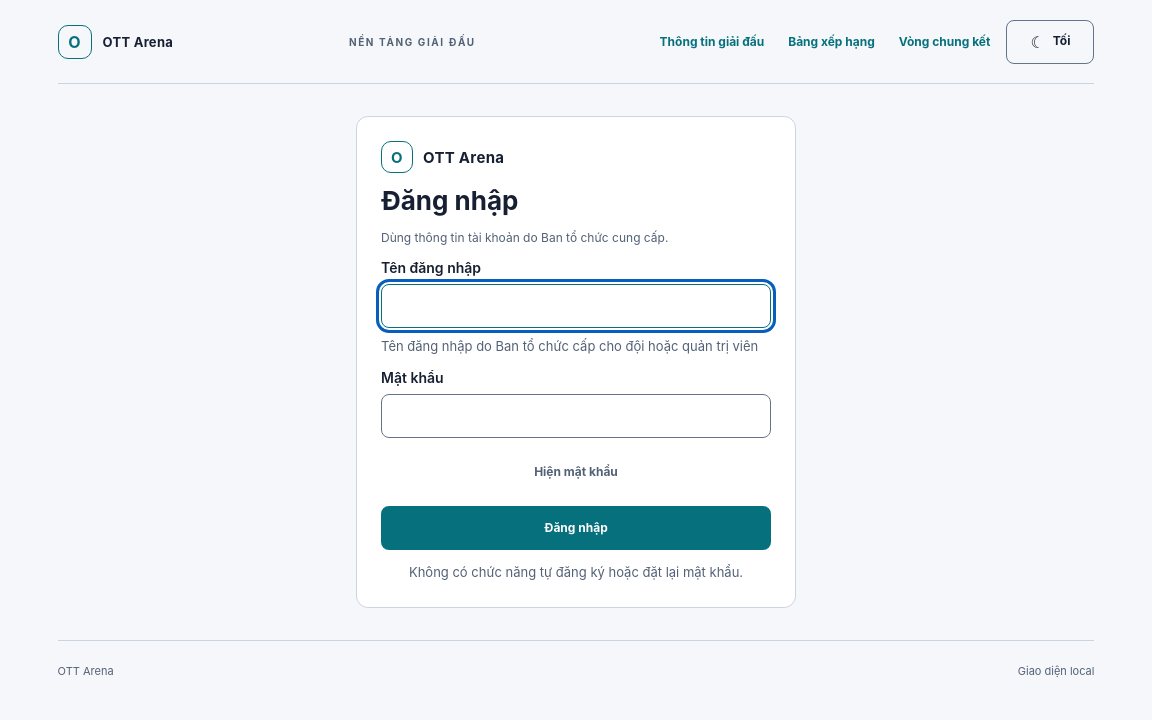
Test: login UI › shows the MFA step indicator, hints, maxLength and focus
Expected: the form "đăng nhập" is shown, x1=381 y1=259 x2=771 y2=550
Type "admin" into the field labelled "Tên đăng nhập" at (576, 306), box x1=381 y1=284 x2=771 y2=328
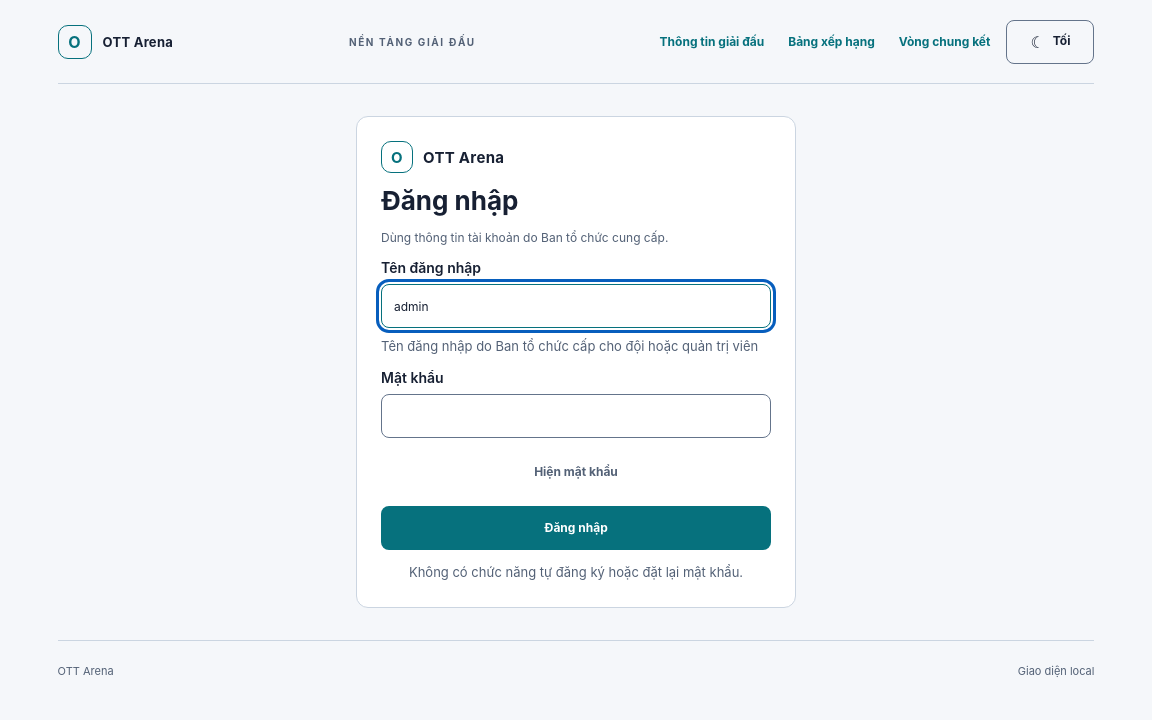
Type "secret-pass-123" into the password field labelled "Mật khẩu" at (576, 416), box x1=381 y1=394 x2=771 y2=438
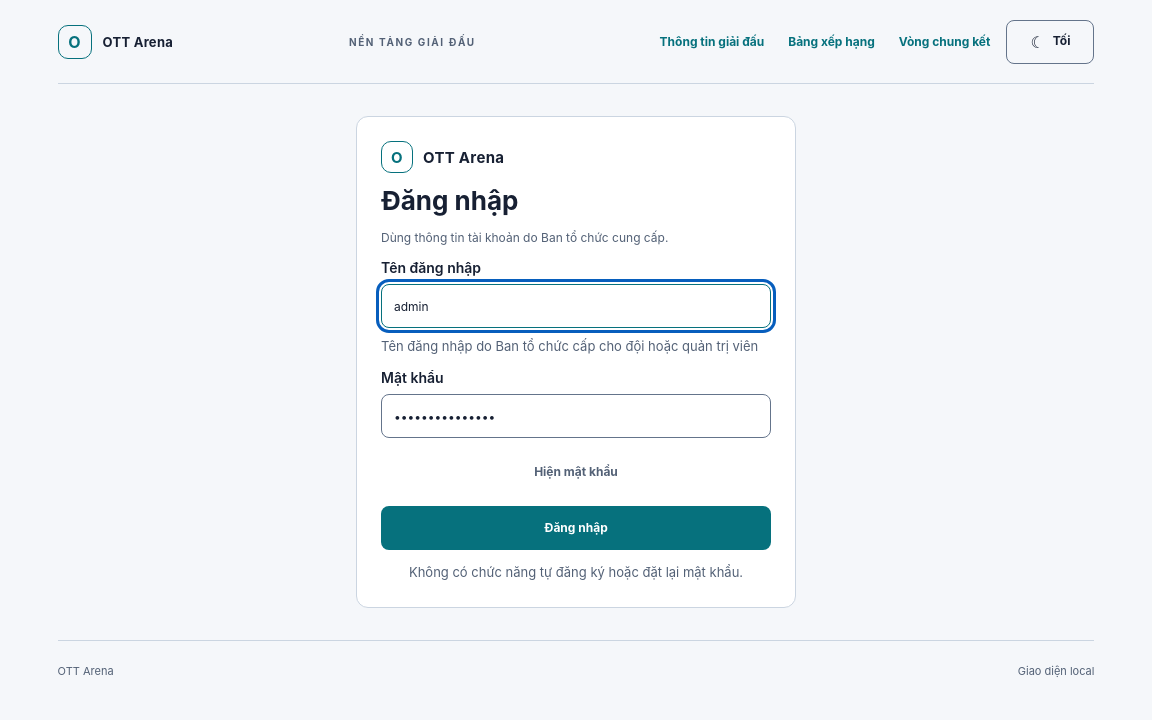
Click the button "Hiện mật khẩu" at (576, 472), box x1=381 y1=450 x2=771 y2=494
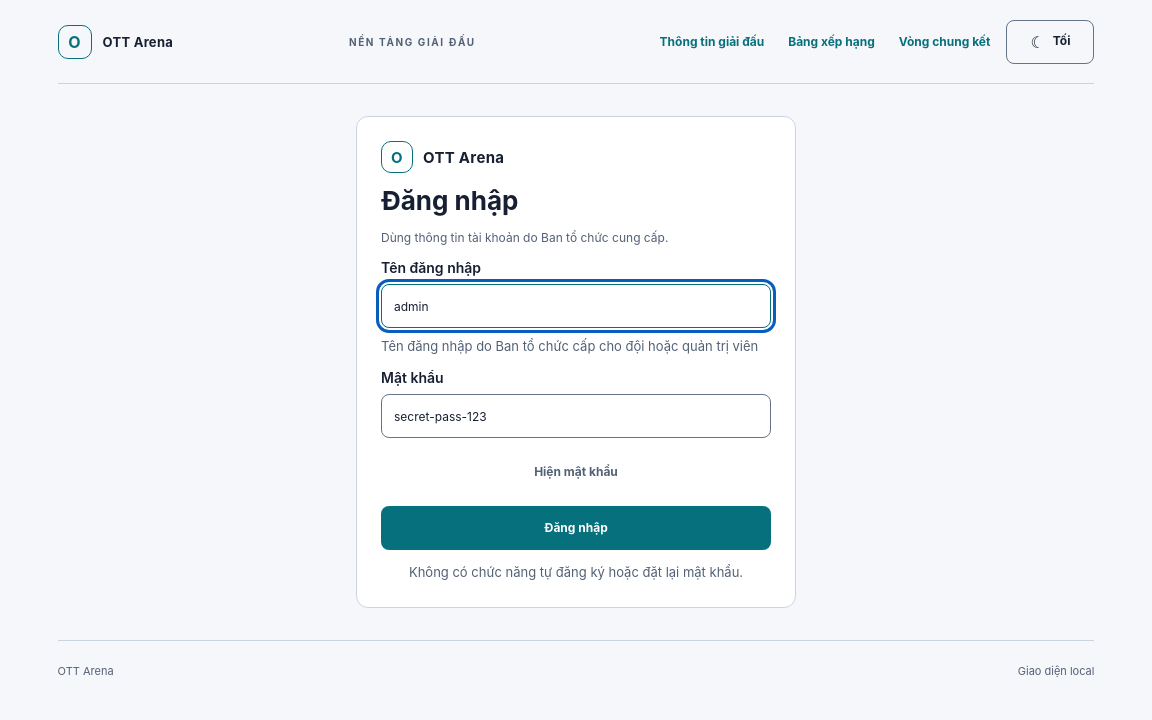
Submit the form "đăng nhập", box x1=381 y1=259 x2=771 y2=550
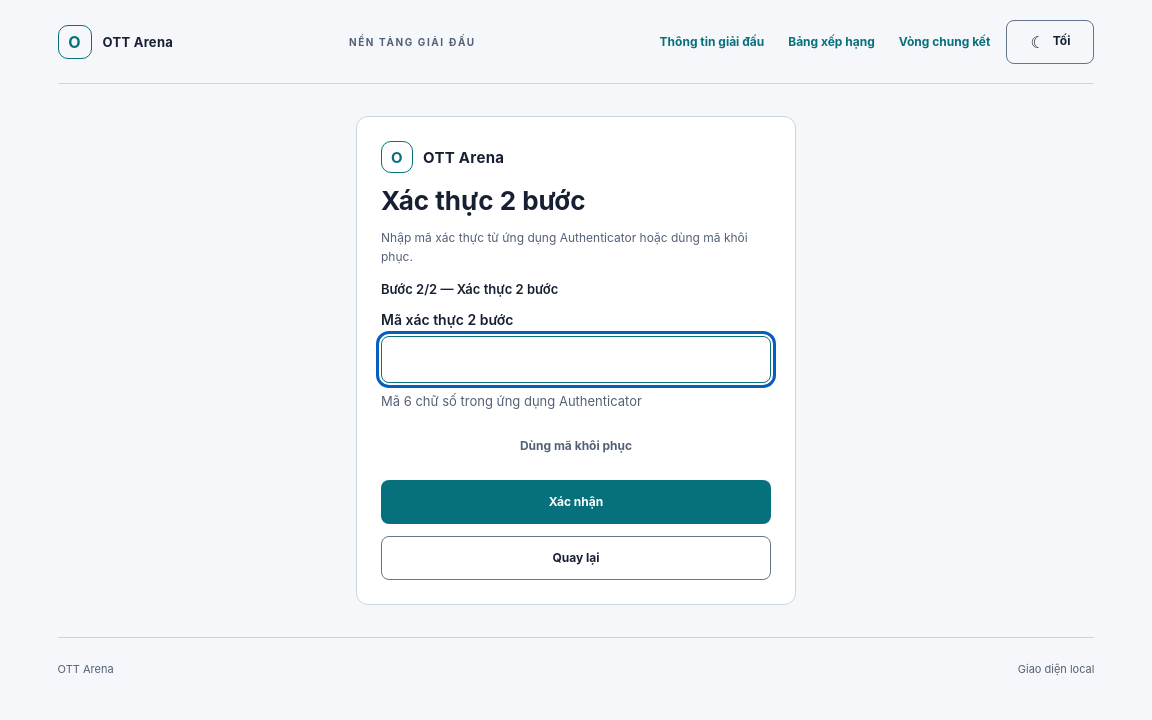
Expected: the form "xác thực 2 bước" is shown, x1=381 y1=311 x2=771 y2=580
Expected: the text "Bước 2/2 — Xác thực 2 bước" is shown, x1=381 y1=281 x2=558 y2=297
Expected: the heading "Xác thực 2 bước" is shown, x1=381 y1=185 x2=586 y2=216
